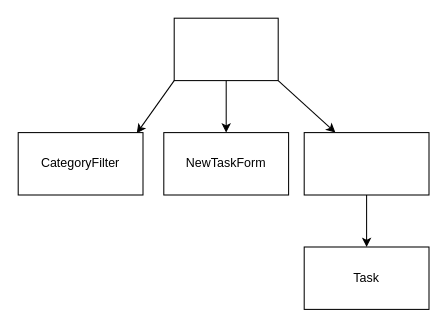
The diagram is 447 pixels wide and 328 high, and some of its shapes have lost their labels. The box of each missing label's shape, as (x1, y1, x2, y2) in pixels:
APP: (173, 17, 278, 81)
TaskList: (303, 132, 429, 195)
